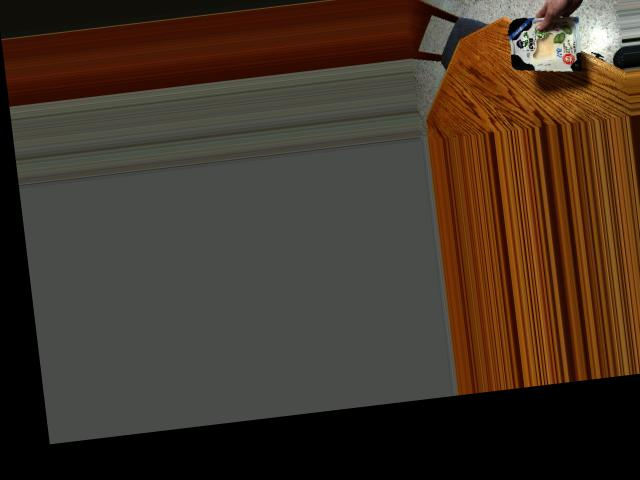cheese: (496, 5, 596, 70)
